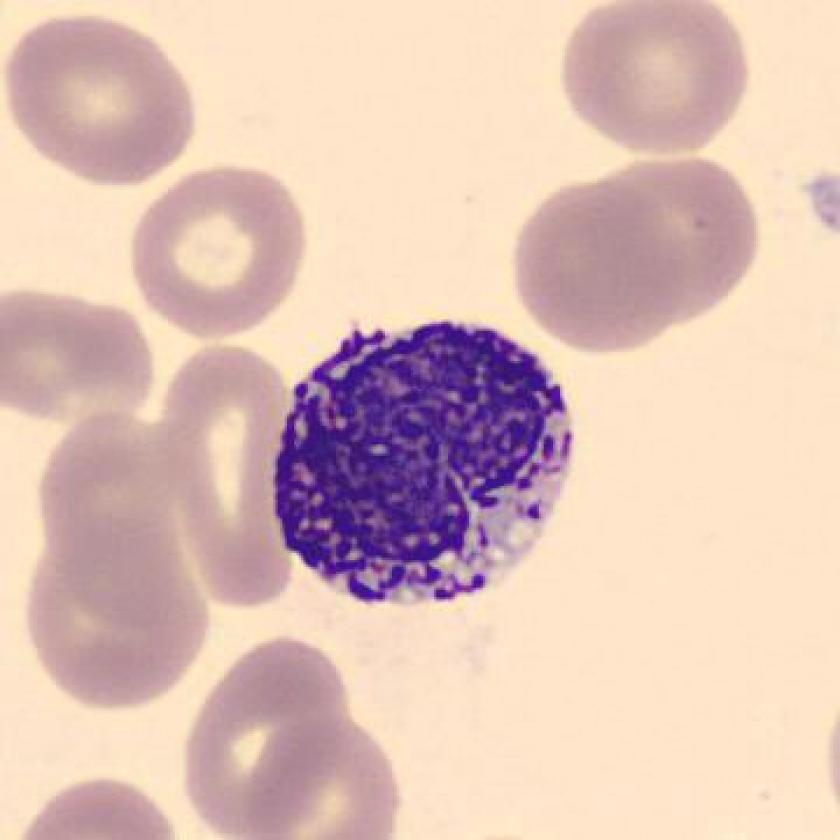basophil: (274, 316, 582, 626)
